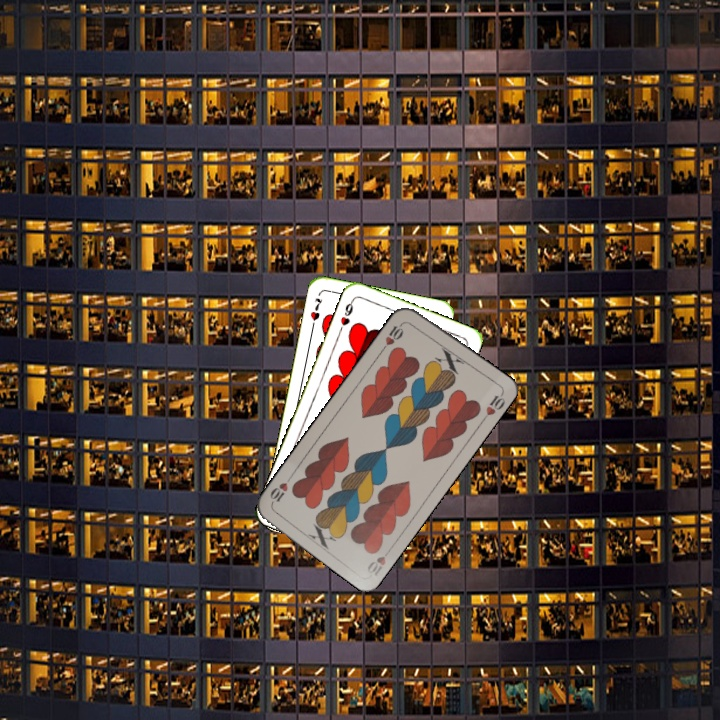H10: (363, 543, 395, 579), (378, 318, 407, 353)
H7: (306, 294, 325, 331)
H9: (335, 296, 356, 334)
